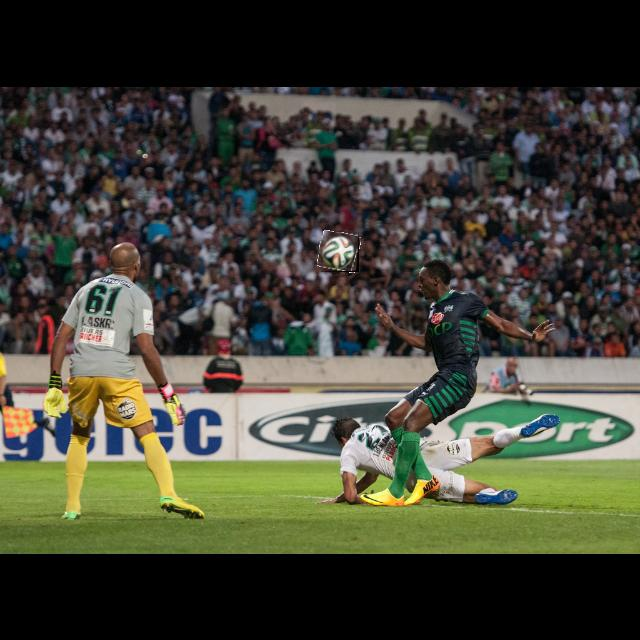Football: (319, 232, 359, 272)
